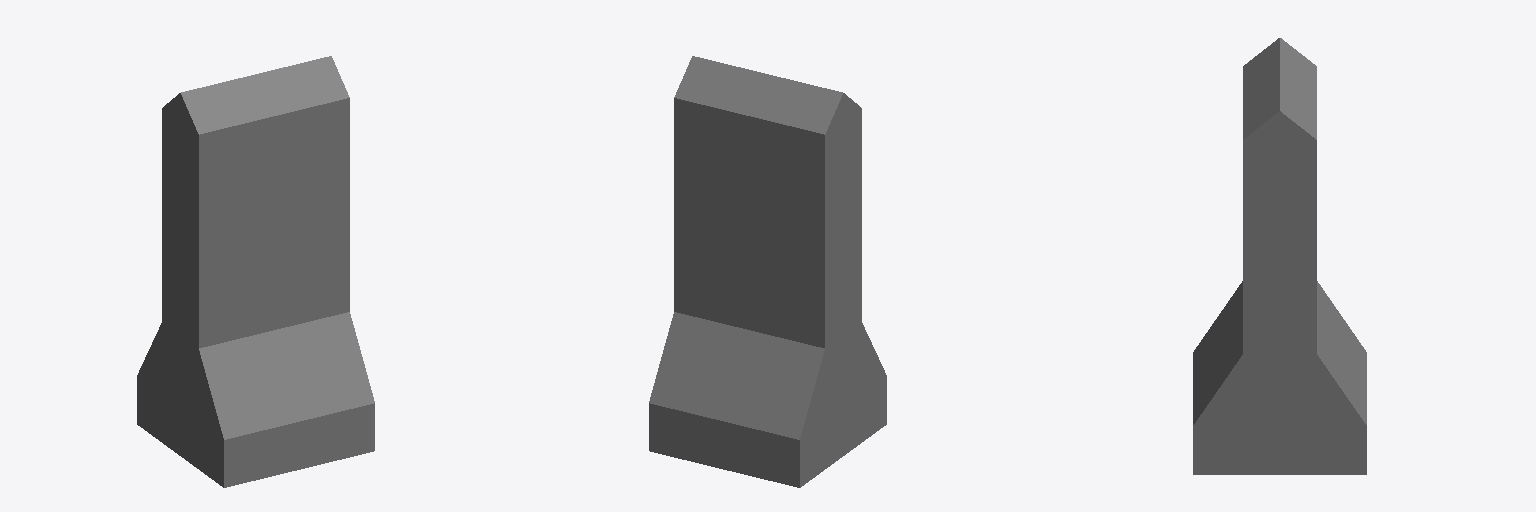
The model's file is Barrier.obj.
3 renders of one model, left to right at view 1: azimuth 30°, elevation 25°; view 2: azimuth 150°, elevation 25°; view 3: azimuth 270°, elevation 25°, orthographic.
Visible parts, largest first — view 1: Barrier; view 2: Barrier; view 3: Barrier.
Boxes of the visible parts, x1=… form: Barrier: x1=137, y1=56, x2=374, y2=487; Barrier: x1=649, y1=56, x2=886, y2=487; Barrier: x1=1193, y1=38, x2=1366, y2=474.
Size of the model in its own units: 1 by 2.3 by 1.